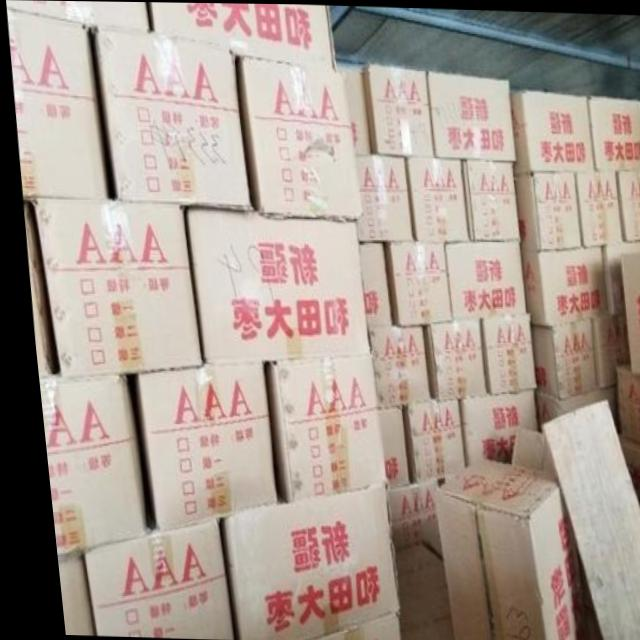box: (28, 198, 194, 378), (182, 205, 362, 364), (211, 480, 386, 640), (93, 27, 246, 207), (424, 456, 573, 640), (128, 360, 266, 531), (234, 54, 358, 217), (31, 373, 134, 555), (7, 7, 103, 200), (71, 518, 219, 638), (257, 353, 376, 501), (150, 2, 335, 68), (426, 70, 512, 158), (508, 89, 590, 174), (359, 62, 431, 156), (516, 245, 601, 324), (439, 239, 519, 319), (451, 386, 529, 466), (378, 239, 446, 326), (383, 540, 441, 640), (524, 314, 589, 398), (511, 169, 576, 250), (396, 394, 455, 483), (403, 156, 464, 239), (417, 318, 478, 401), (351, 152, 408, 240), (361, 325, 422, 406), (458, 157, 515, 239), (474, 311, 527, 392), (7, 0, 148, 30), (585, 94, 640, 168), (572, 167, 618, 245), (377, 478, 429, 547), (597, 238, 640, 312), (615, 251, 640, 374), (46, 550, 80, 633), (295, 610, 389, 640), (586, 311, 623, 386), (353, 239, 385, 324), (609, 362, 640, 445), (370, 405, 398, 488), (612, 168, 640, 239)
